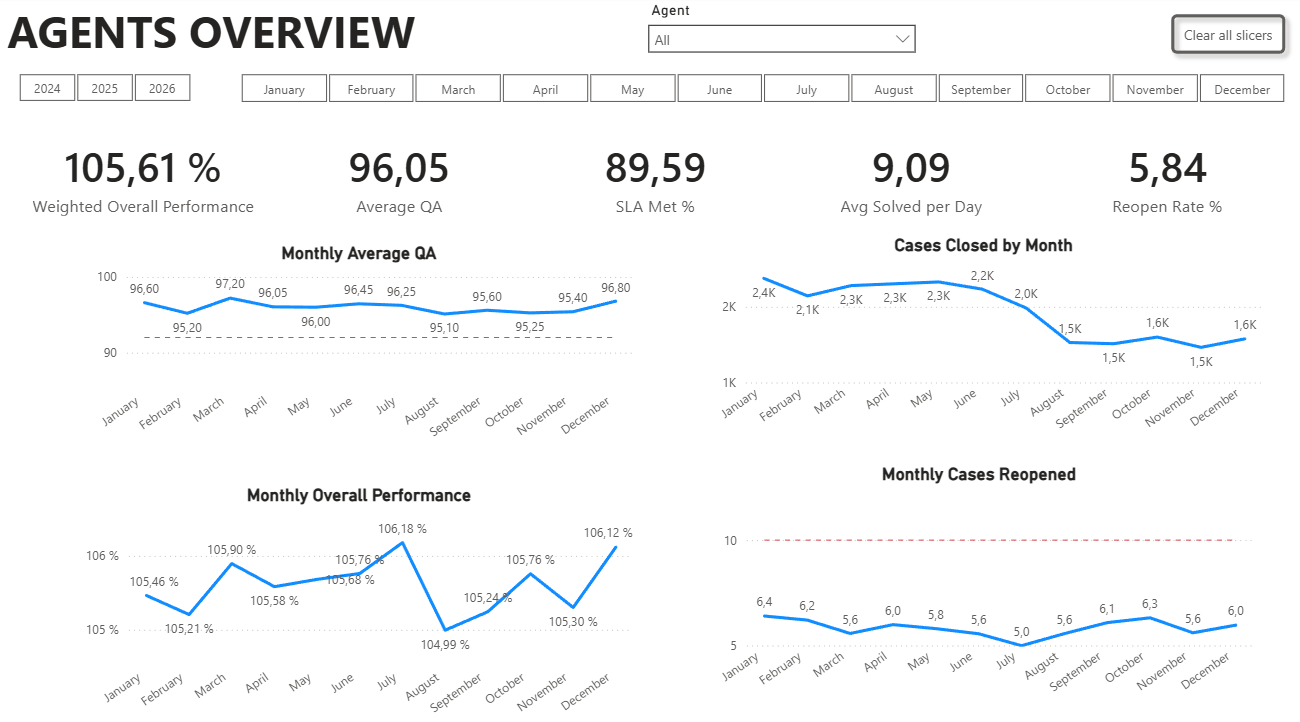

The dashboard page shown, as its layout file describes it:
{"tool":"powerbi","page":{"name":"Agent Overview","canvas":[1280,720],"ordinal":1},"visuals":[{"type":"slicer","fields":{"Values":["Dim_Agent.Agent"]},"box":[627.4,0,280,73.5],"z":0},{"type":"textbox","box":[8.4,0,484.4,85.6],"z":1000},{"type":"slicer","fields":{"Values":["Calendar.Month"]},"box":[215.5,69.5,1064.5,41.3],"z":2000},{"type":"slicer","fields":{"Values":["Calendar.Year"]},"box":[0,69.5,215.5,36.3],"z":3000},{"type":"cardVisual","fields":{"Data":["_Measures.Weighted Overall Performance","_Measures.Avg QA","_Measures.SLA Met %","_Measures.Avg Solved per Day","_Measures.Reopen Rate %"]},"box":[8.4,117.4,1271.6,115.3],"z":4000},{"type":"lineChart","title":"Monthly Overall Performance","fields":{"Y":["_Measures.Weighted Overall Performance"],"Category":["Calendar.Month"]},"box":[84.6,475.3,542.8,244.7],"z":5000},{"type":"lineChart","title":"Cases Closed by Month","fields":{"Y":["_Measures.Total Cases"],"Category":["Calendar.Month"]},"box":[687.8,232.6,551.9,207.5],"z":6000},{"type":"lineChart","title":"Monthly Average QA","fields":{"Category":["Calendar.Month"],"Y":["_Measures.Avg QA","_Measures.QA Target"]},"box":[84.6,240.7,542.8,207.5],"z":7000},{"type":"lineChart","title":"Monthly Cases Reopened","fields":{"Category":["Calendar.Month"],"Y":["_Measures.Reopen Rate %","_Measures.Reopen Target"]},"box":[687.8,455.2,542.8,244.7],"z":8000},{"type":"actionButton","box":[1137,8.8,128.9,56.4],"z":9000}]}

Visuals, with their boxes in screenshot pixels (x1, y1, x2, y2), scaled from the page's 1280x720 canvas onto the 1300x722 screenshot:
slicer - Dim_Agent.Agent: x1=637 y1=0 x2=922 y2=74
textbox: x1=9 y1=0 x2=500 y2=86
slicer - Calendar.Month: x1=219 y1=70 x2=1299 y2=111
slicer - Calendar.Year: x1=0 y1=70 x2=219 y2=106
cardVisual - _Measures.Weighted Overall Performance x _Measures.Avg QA: x1=9 y1=118 x2=1299 y2=233
"Monthly Overall Performance" lineChart: x1=86 y1=477 x2=637 y2=721
"Cases Closed by Month" lineChart: x1=699 y1=233 x2=1259 y2=441
"Monthly Average QA" lineChart: x1=86 y1=241 x2=637 y2=449
"Monthly Cases Reopened" lineChart: x1=699 y1=456 x2=1250 y2=702
actionButton: x1=1155 y1=9 x2=1286 y2=65
